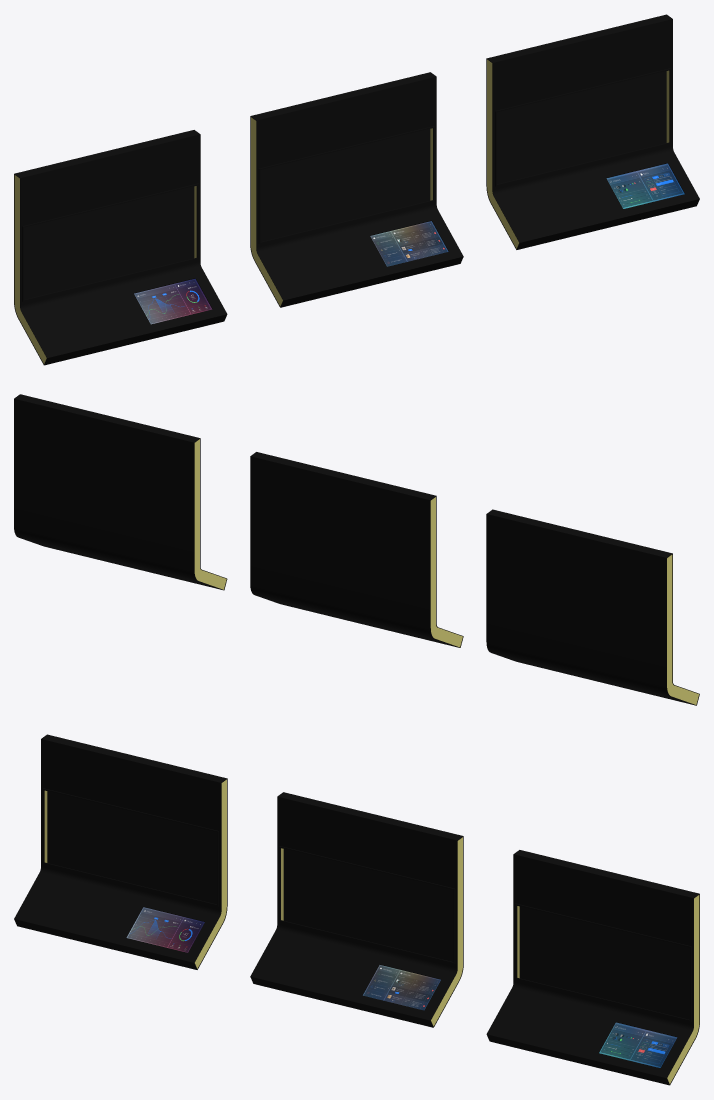
The model's file is EC_InfoDisplays.FBX.
3 renders of one model, top to bottom at view 1: azimuth 30°, elevation 25°; view 2: azimuth 150°, elevation 25°; view 3: azimuth 330°, elevation 25°, orthographic.
Parts seen in each view (by area): view 1: EC_InfoDisplay_02, EC_InfoDisplay_01, EC_InfoDisplay_03, EC_InfoDisplay01_Glass, EC_InfoDisplay03_Glass, EC_InfoDisplay02_Glass, EC_InfoDisplay01_TouchPanel, EC_InfoDisplay02_TouchPanel, EC_InfoDisplay03_TouchPanel; view 2: EC_InfoDisplay_02, EC_InfoDisplay_03, EC_InfoDisplay_01; view 3: EC_InfoDisplay_01, EC_InfoDisplay_03, EC_InfoDisplay_02, EC_InfoDisplay03_Glass, EC_InfoDisplay01_Glass, EC_InfoDisplay02_Glass, EC_InfoDisplay03_TouchPanel, EC_InfoDisplay01_TouchPanel, EC_InfoDisplay02_TouchPanel.
Boxes of the visible parts, left/top/right/bottom form: EC_InfoDisplay_02: left=250, top=72, right=463, bottom=307; EC_InfoDisplay_01: left=486, top=14, right=699, bottom=249; EC_InfoDisplay_03: left=14, top=130, right=227, bottom=365; EC_InfoDisplay01_Glass: left=497, top=71, right=668, bottom=183; EC_InfoDisplay03_Glass: left=25, top=186, right=196, bottom=299; EC_InfoDisplay02_Glass: left=261, top=129, right=432, bottom=241; EC_InfoDisplay01_TouchPanel: left=606, top=163, right=684, bottom=208; EC_InfoDisplay02_TouchPanel: left=370, top=221, right=448, bottom=266; EC_InfoDisplay03_TouchPanel: left=134, top=278, right=212, bottom=324; EC_InfoDisplay_02: left=250, top=452, right=463, bottom=647; EC_InfoDisplay_03: left=486, top=509, right=699, bottom=705; EC_InfoDisplay_01: left=14, top=394, right=227, bottom=590; EC_InfoDisplay_01: left=486, top=850, right=699, bottom=1085; EC_InfoDisplay_03: left=14, top=734, right=227, bottom=969; EC_InfoDisplay_02: left=250, top=792, right=463, bottom=1027; EC_InfoDisplay03_Glass: left=45, top=791, right=216, bottom=903; EC_InfoDisplay01_Glass: left=517, top=906, right=688, bottom=1019; EC_InfoDisplay02_Glass: left=281, top=849, right=452, bottom=961; EC_InfoDisplay03_TouchPanel: left=126, top=907, right=204, bottom=952; EC_InfoDisplay01_TouchPanel: left=599, top=1022, right=677, bottom=1067; EC_InfoDisplay02_TouchPanel: left=363, top=965, right=440, bottom=1010.
Bounding box in the file's own units: 13188 × 3278 × 1160.
